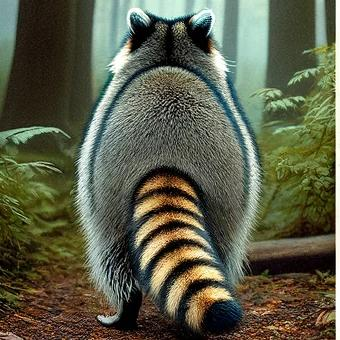raccoon: (65, 0, 272, 340)
